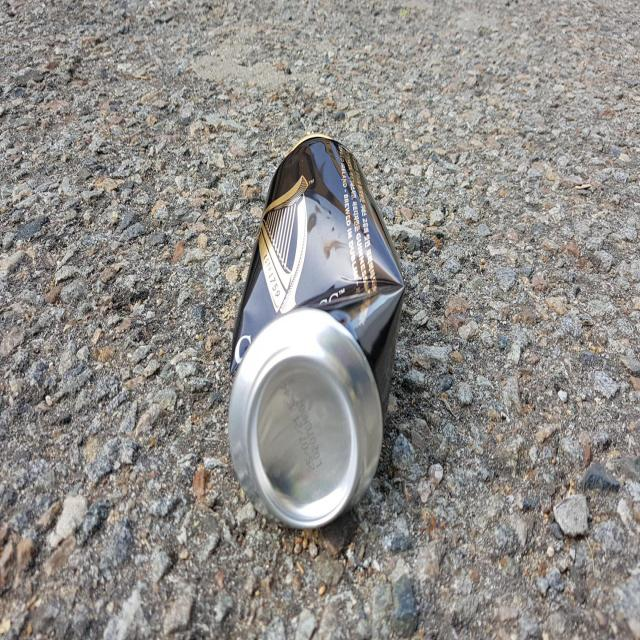can: (229, 133, 405, 529)
